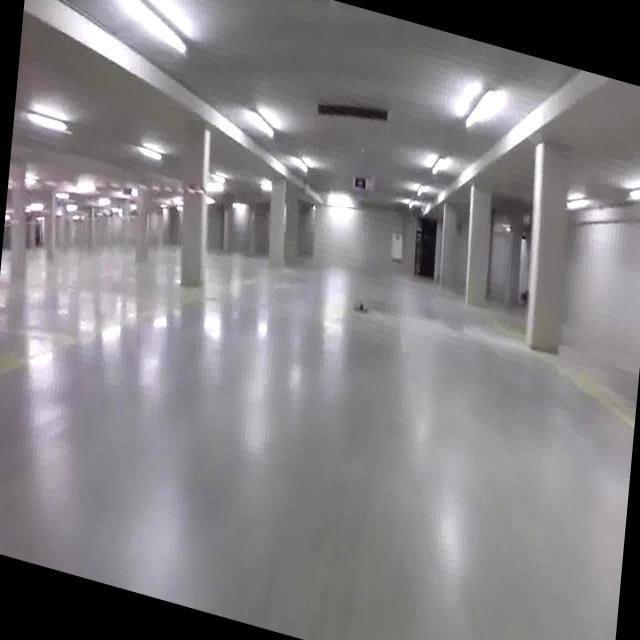drone: (348, 292, 372, 320)
